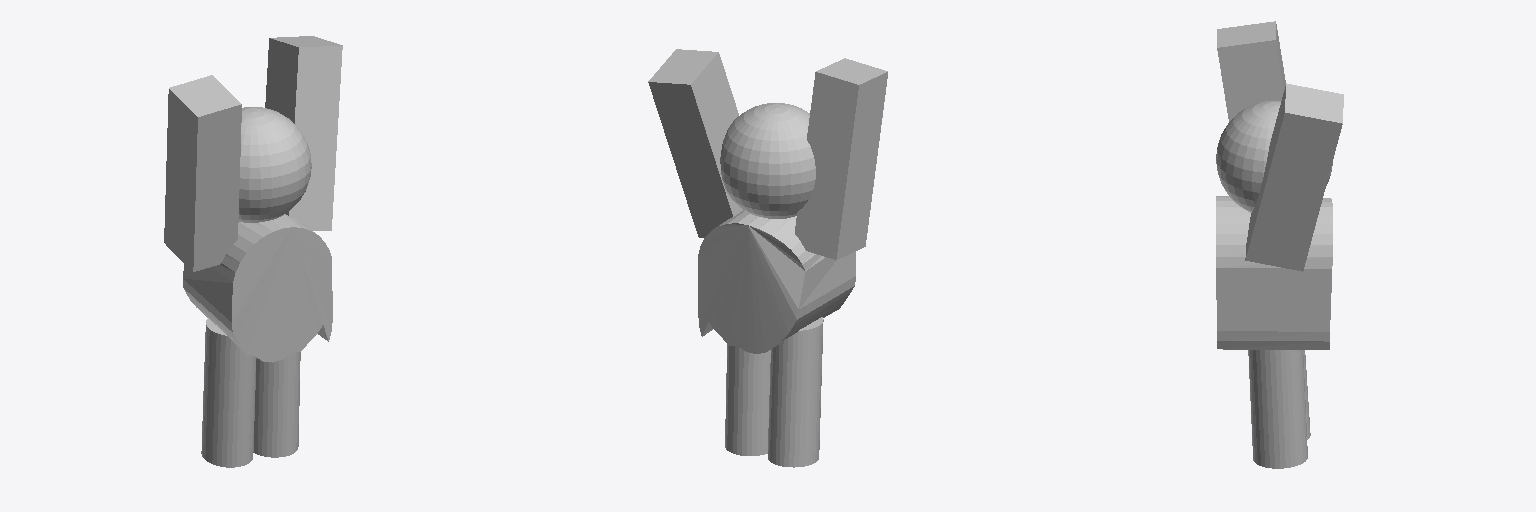
Rendered from Figurine178.obj.
3 renders of one model, left to right at view 1: azimuth 30°, elevation 25°; view 2: azimuth 150°, elevation 25°; view 3: azimuth 270°, elevation 25°, orthographic.
Visible parts, largest first — view 1: Cylinder; view 2: Cylinder; view 3: Cylinder.
Boxes of the visible parts, x1=… form: Cylinder: x1=164, y1=36, x2=342, y2=467; Cylinder: x1=648, y1=49, x2=887, y2=467; Cylinder: x1=1216, y1=21, x2=1343, y2=468.
Size of the model in its own units: 3.52 by 7.34 by 2.18.